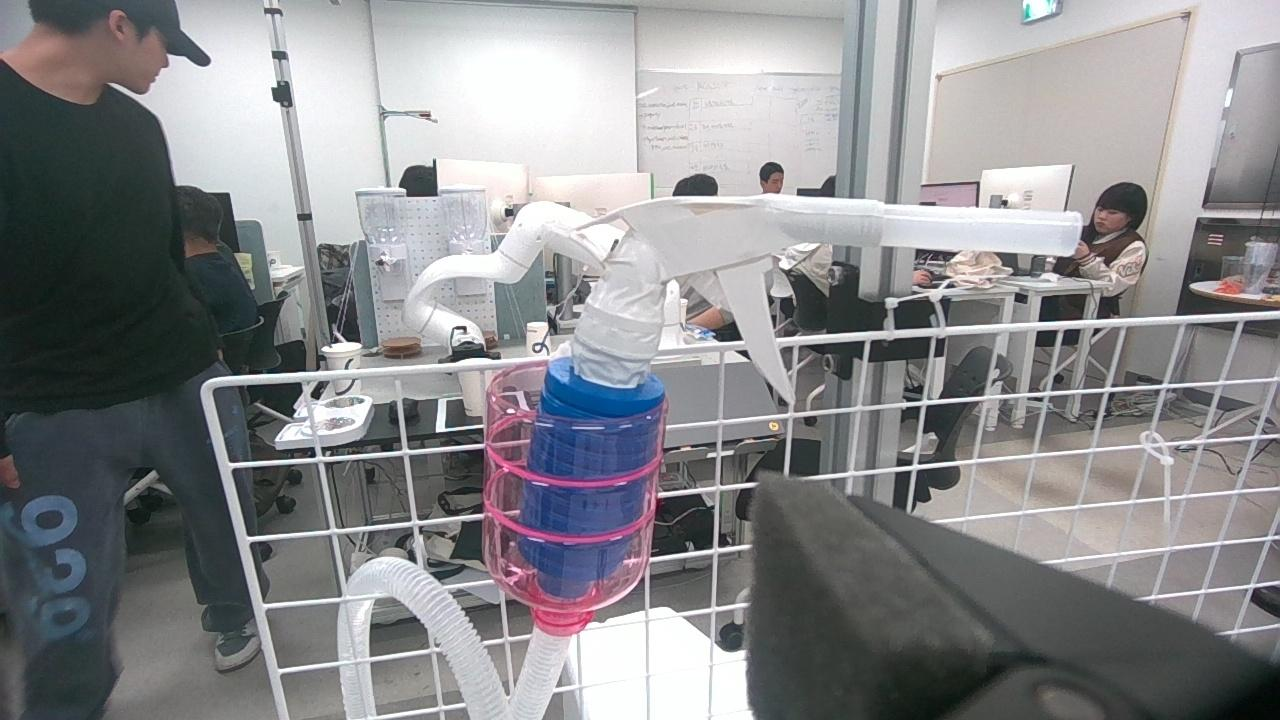Nozzle: (522, 198, 786, 559)
